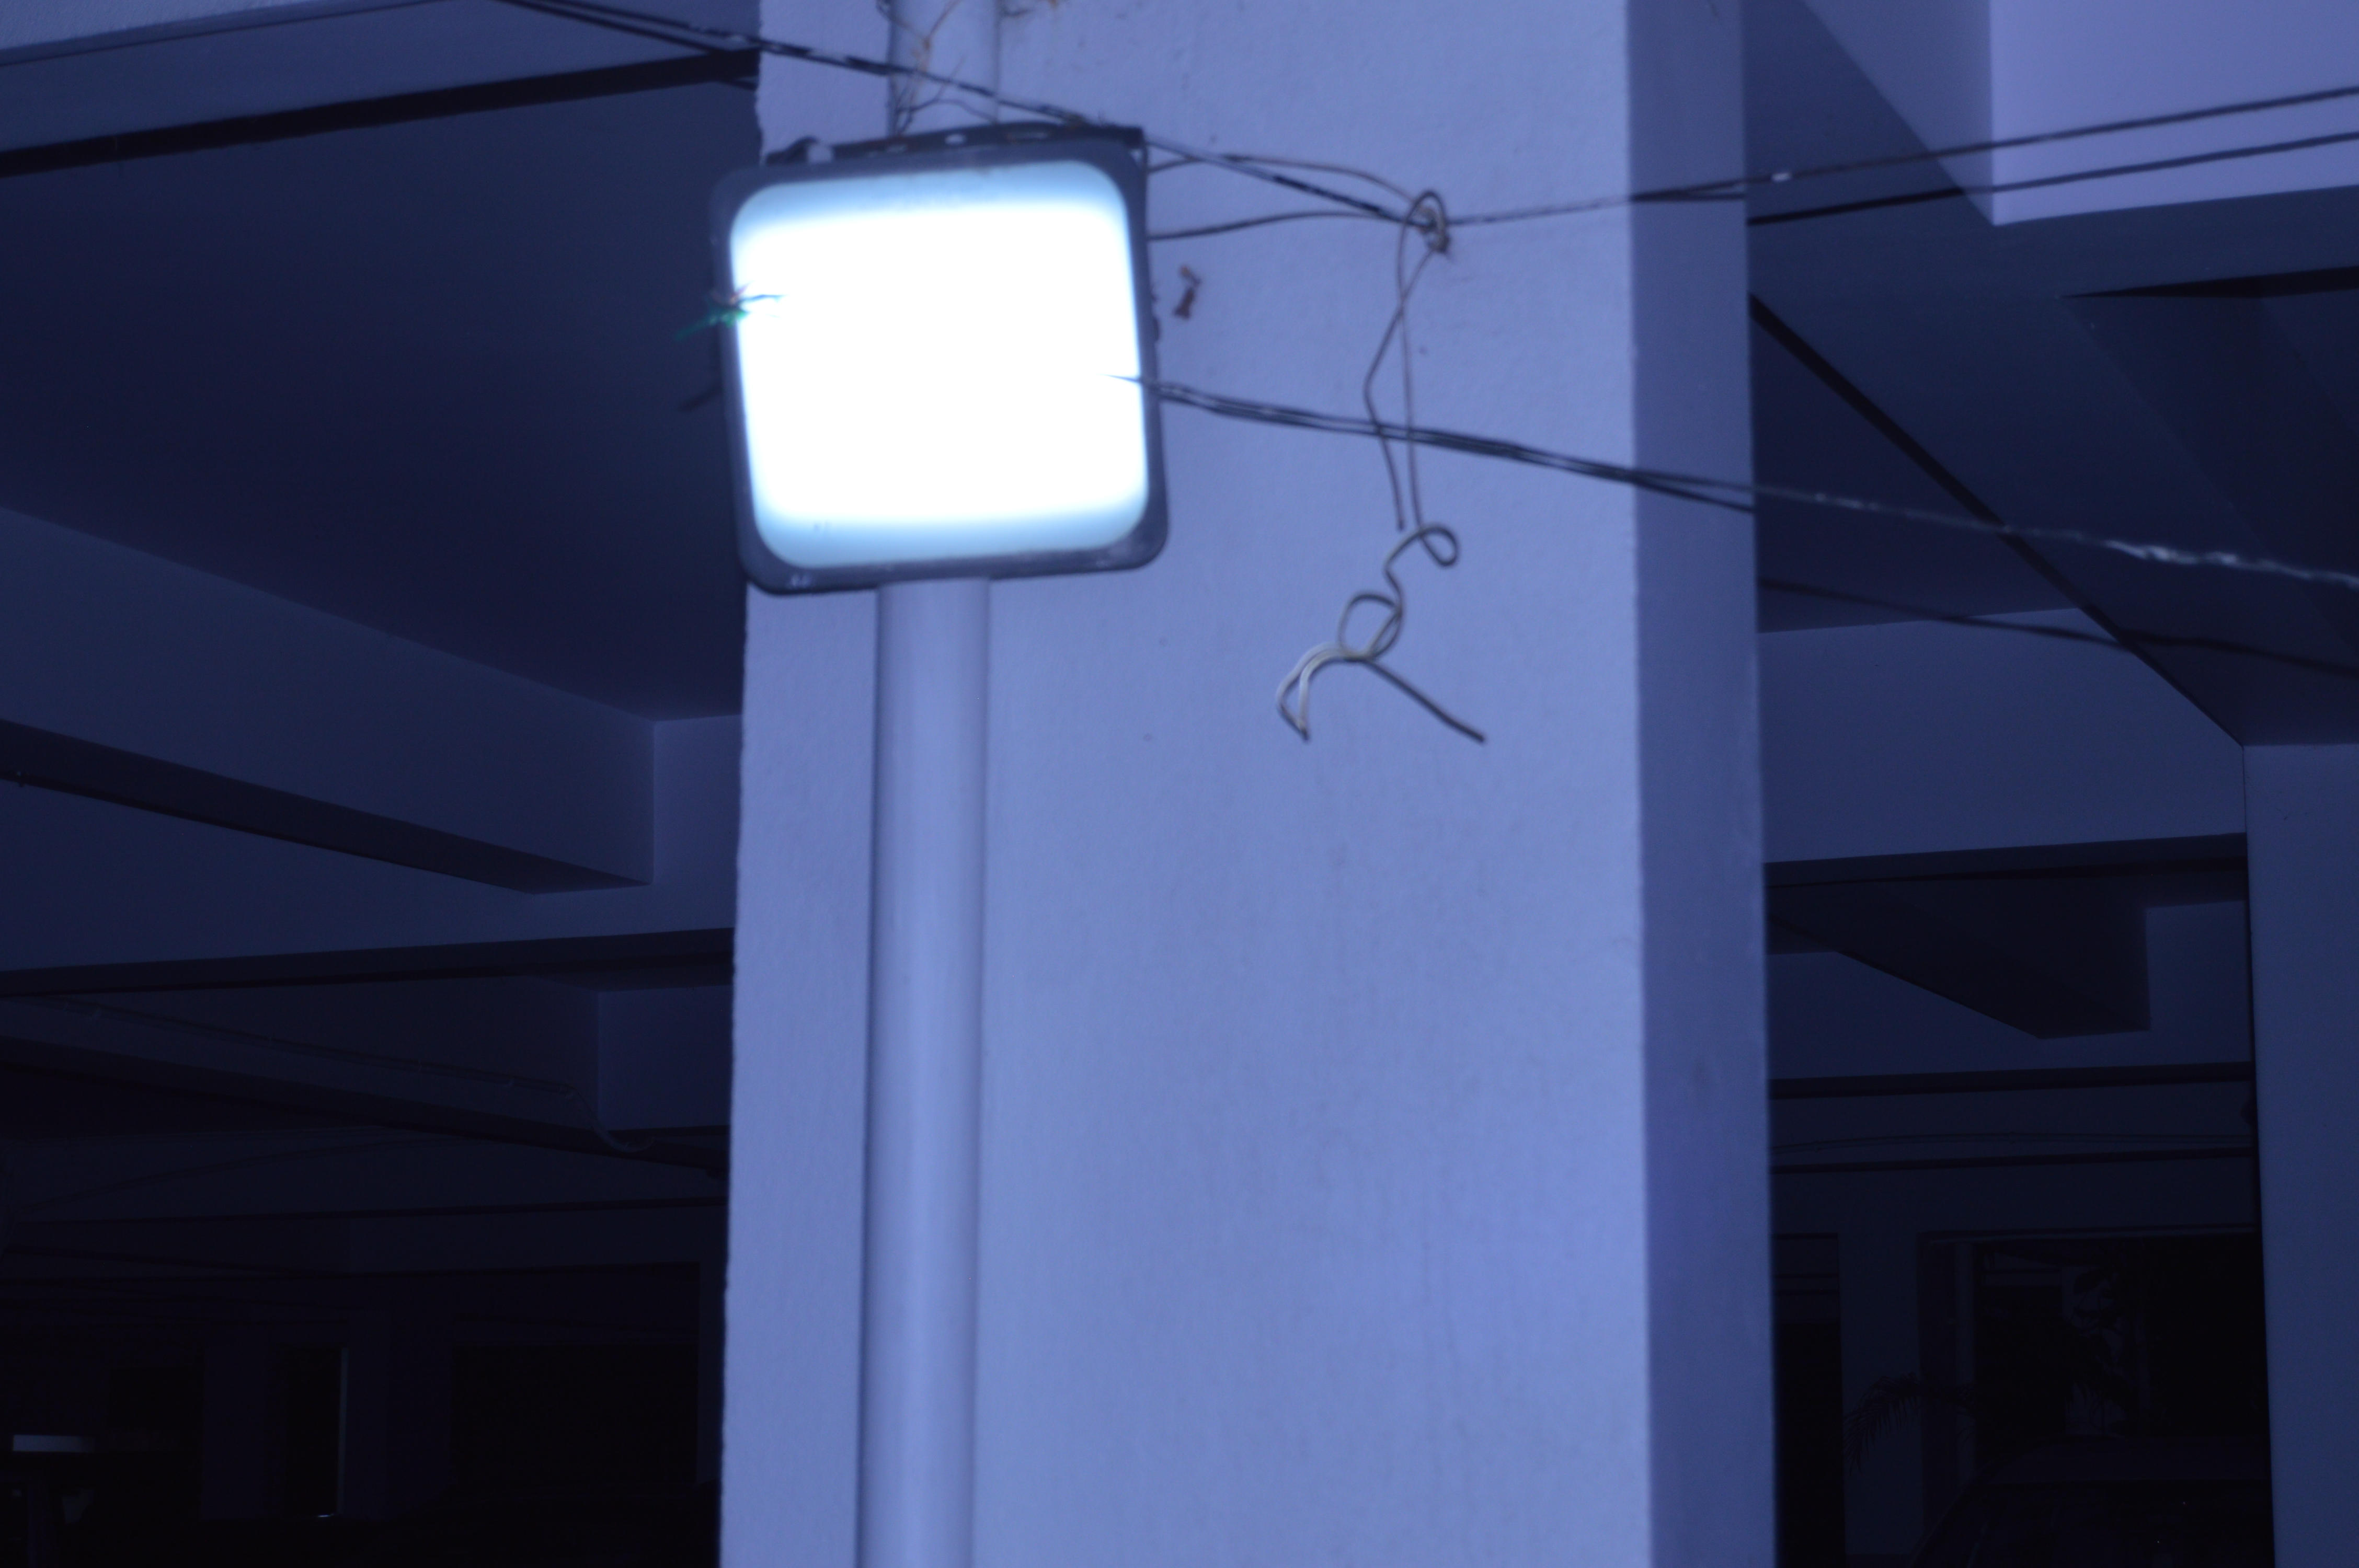Glare: (730, 210, 1157, 532)
